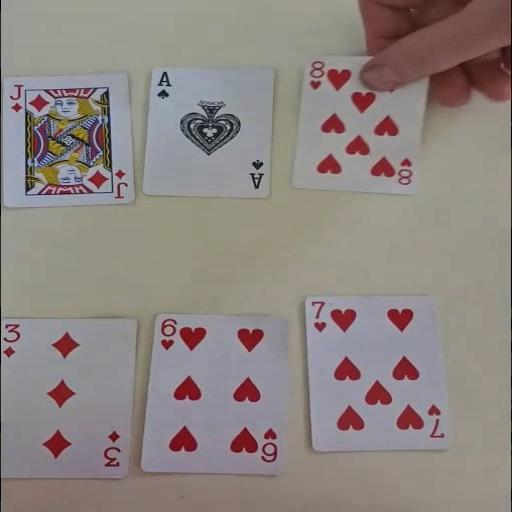3: (100, 428, 122, 468), (1, 322, 22, 359)
6: (257, 426, 279, 463), (158, 316, 178, 352)
7: (424, 402, 445, 439), (308, 298, 329, 334)
8: (306, 59, 326, 91), (394, 155, 414, 186)
A: (246, 157, 266, 190), (154, 69, 172, 100)
J: (6, 82, 24, 114), (112, 167, 128, 199)
